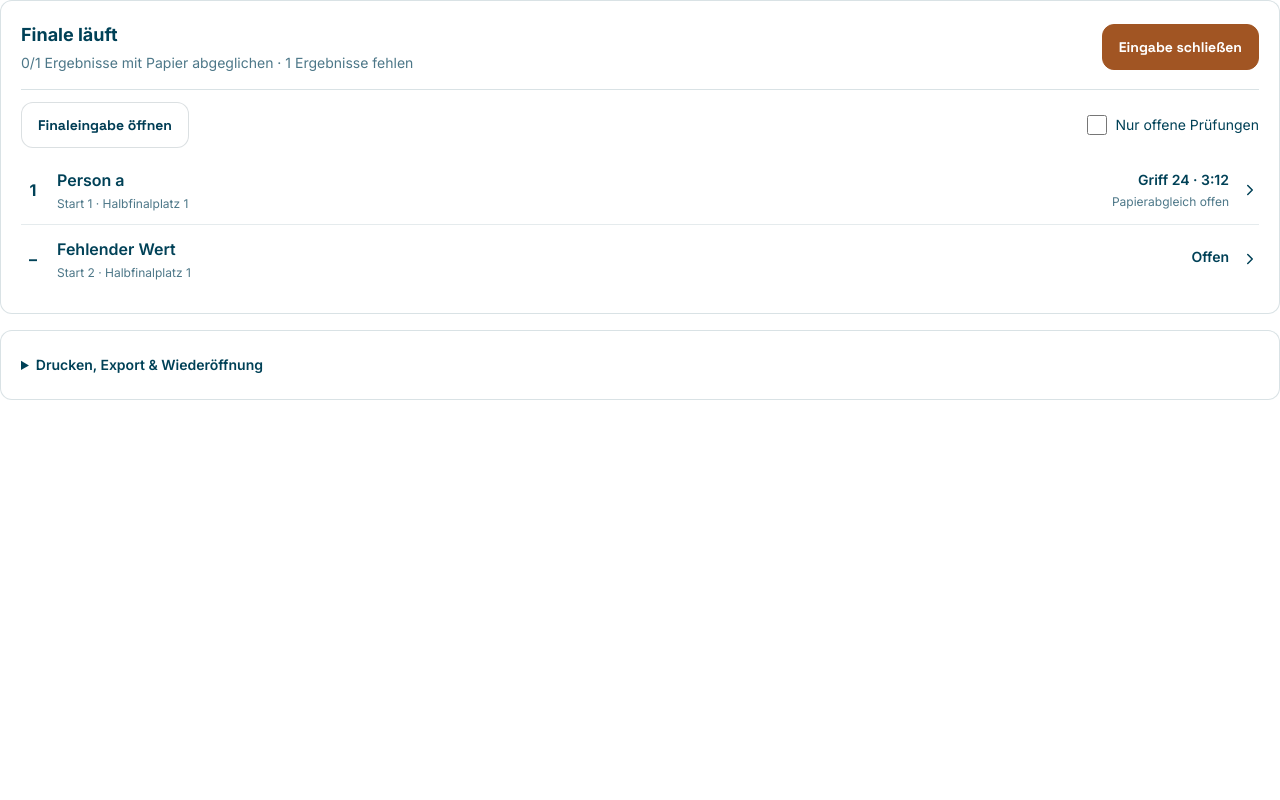
Scenario: focused final administration › requires a reason for non-start and preserves it on a rejected write
Click the button "– Fehlender Wert Start 2 · Halbfinalplatz 1 Offen".
click(116, 249)  # box [21,225,1259,293]
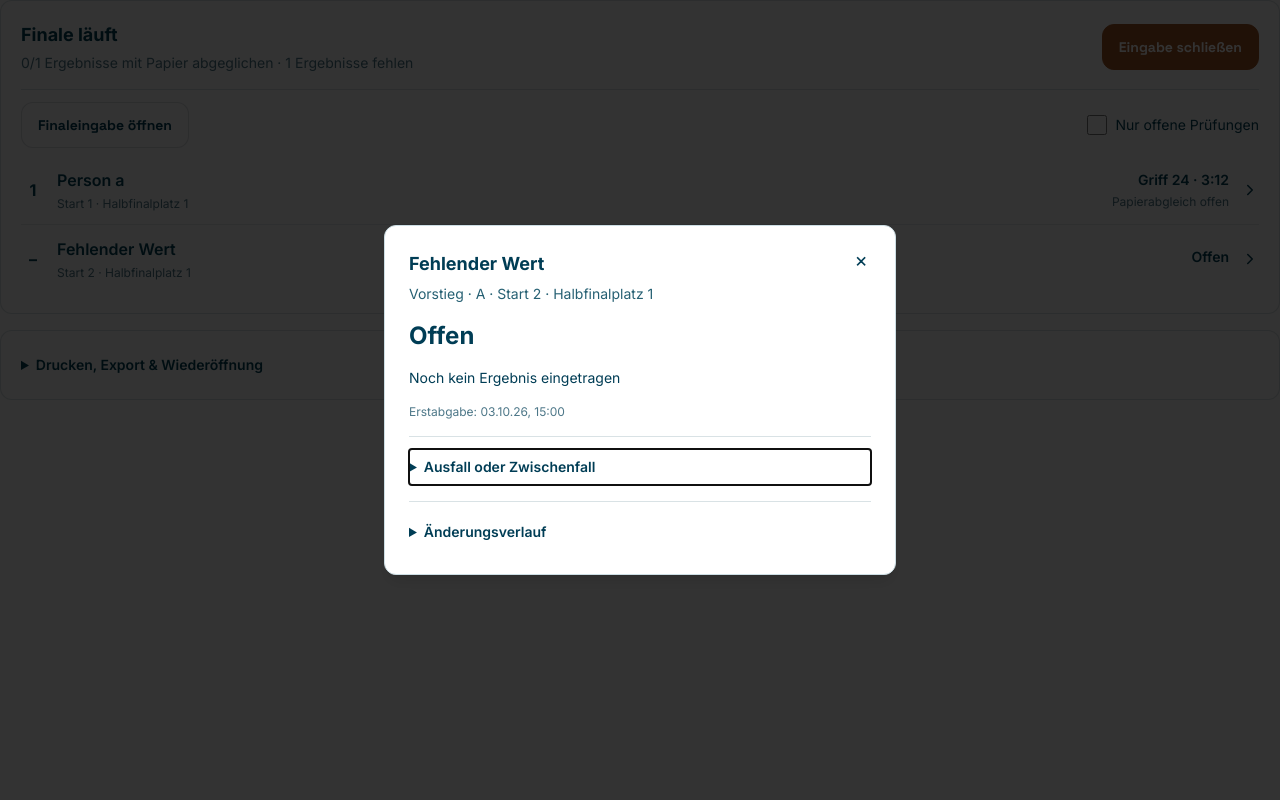
Click the heading "Ausfall oder Zwischenfall".
click(510, 466)  # box [424,458,595,475]
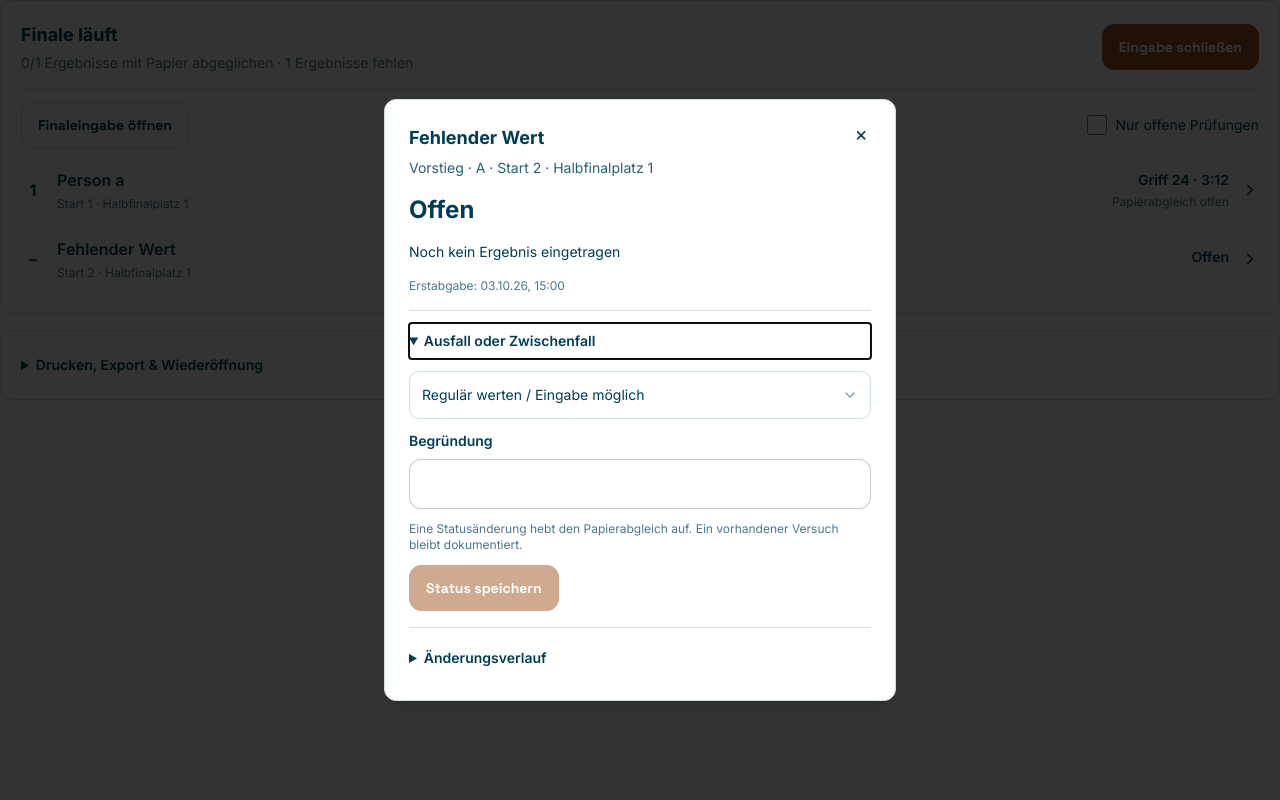
Press Enter in the dropdown named "Teilnehmerstatus", box [409,371,871,419]
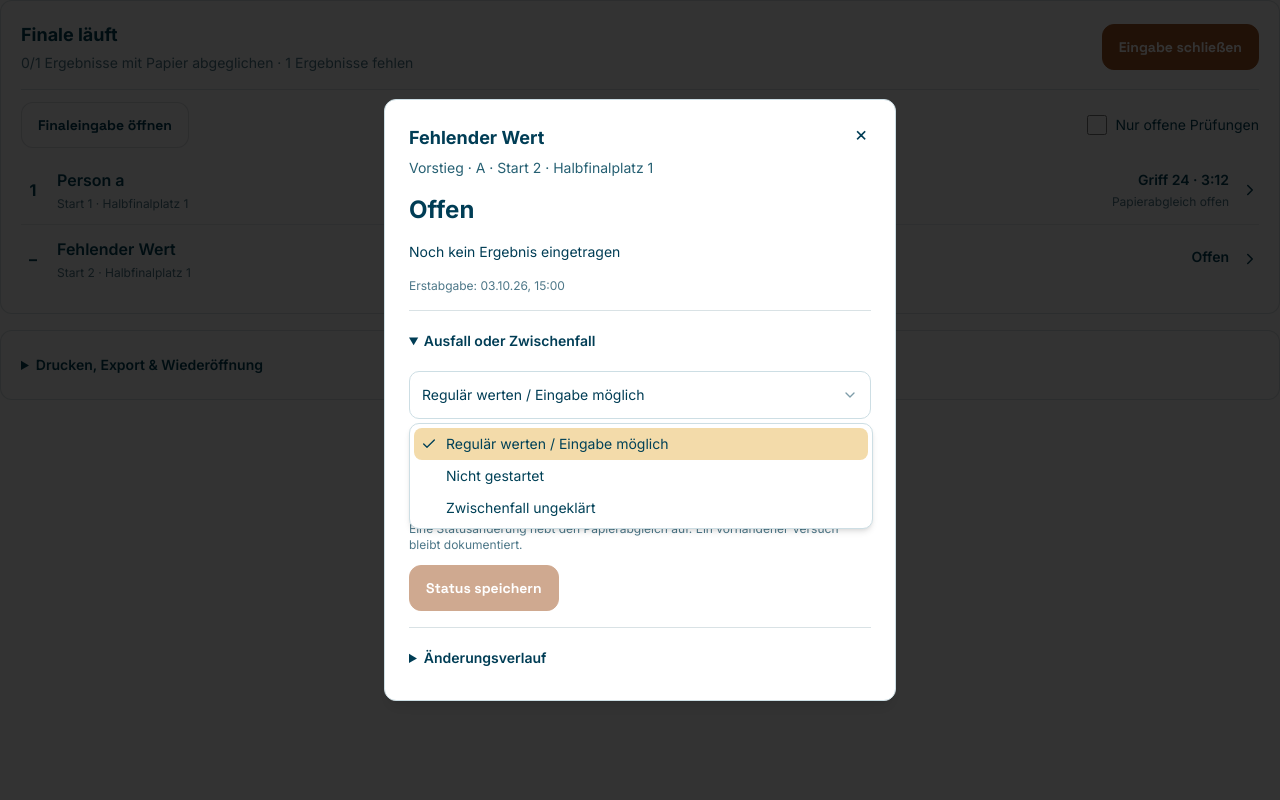
Click the option "Nicht gestartet".
click(495, 476)  # box [446,467,544,484]
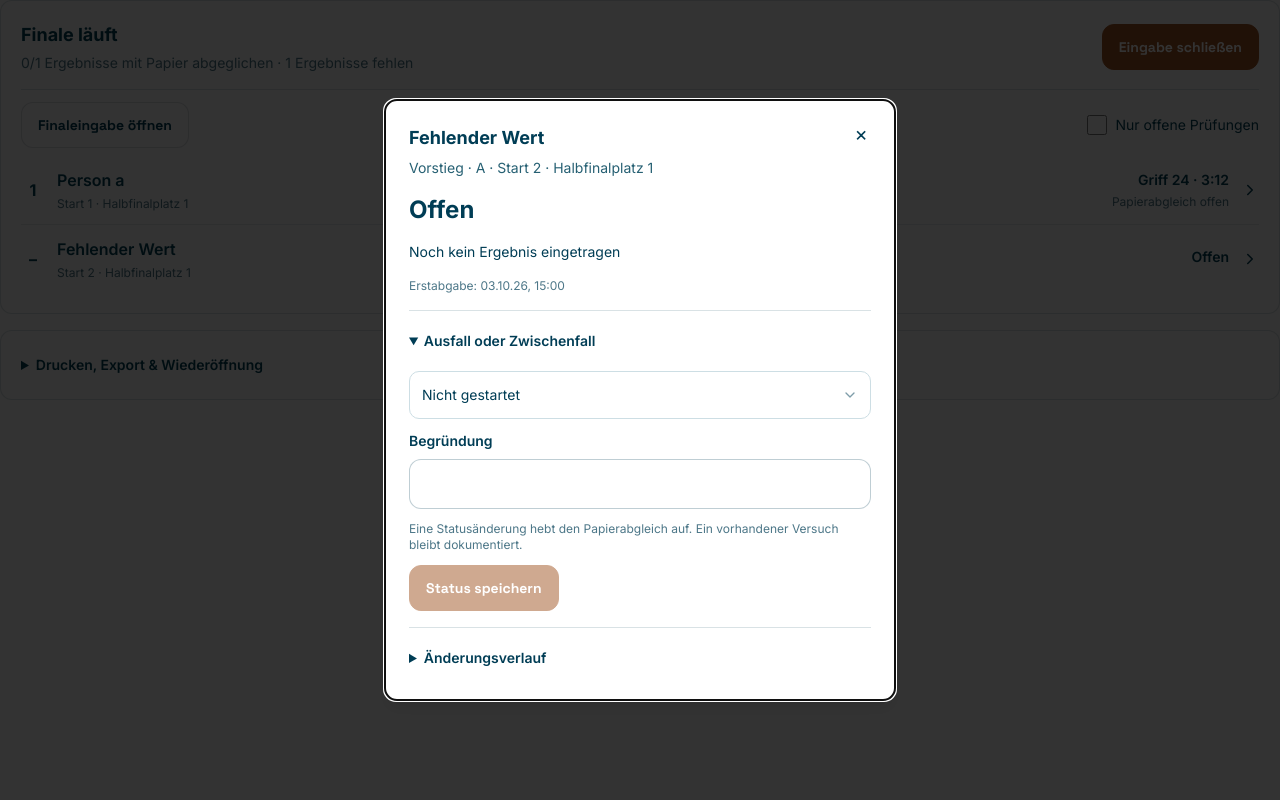
Now the button "Status speichern" is disabled, box [409,565,558,611]
Type "Teilnehmer ist nicht erschienen" into the field labelled "Begründung".
click(640, 484); type("Teilnehmer ist nicht erschienen")  # box [422,460,858,508]
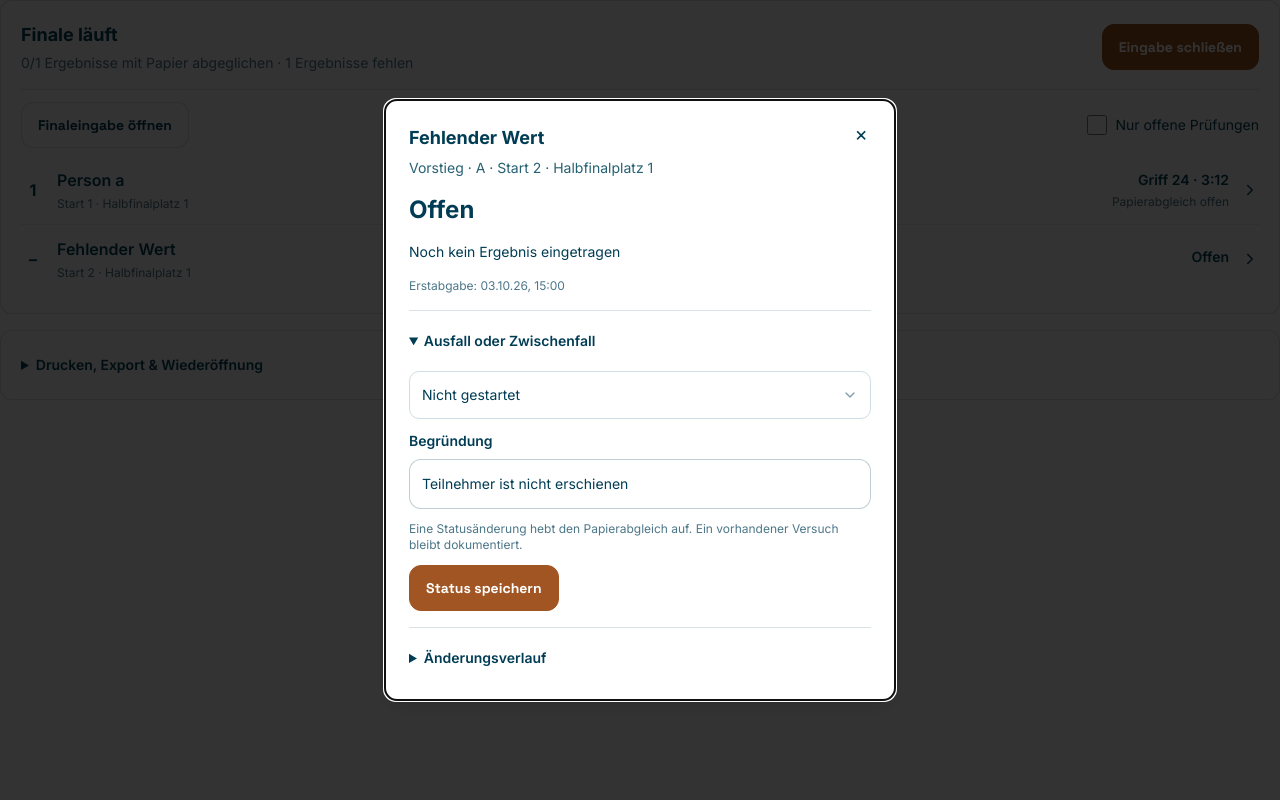
Click the button "Status speichern".
click(484, 588)  # box [409,565,558,611]
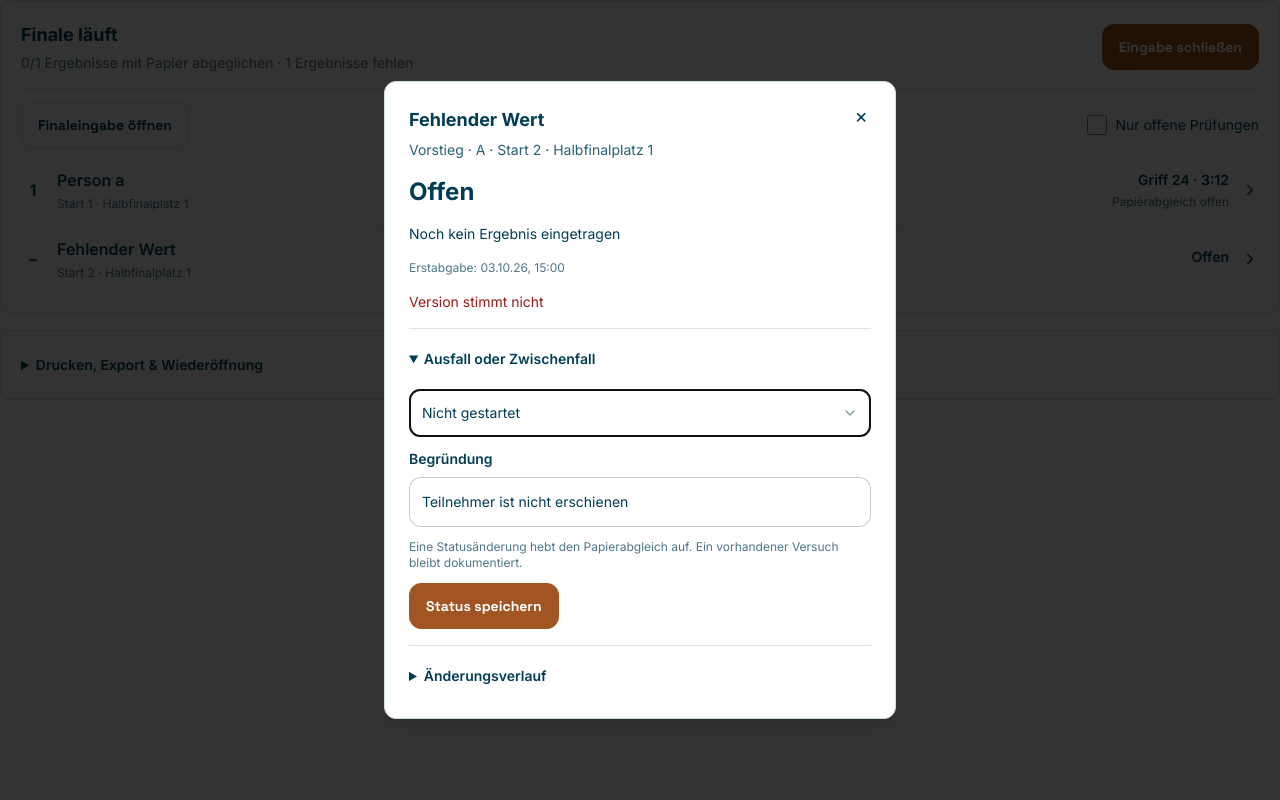
Now the message reads "Version stimmt nicht", box [409,293,544,310]
